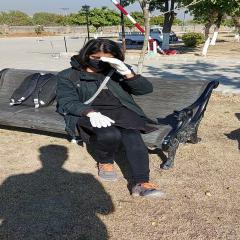gloved: (100, 58, 132, 76), (86, 112, 114, 126)
